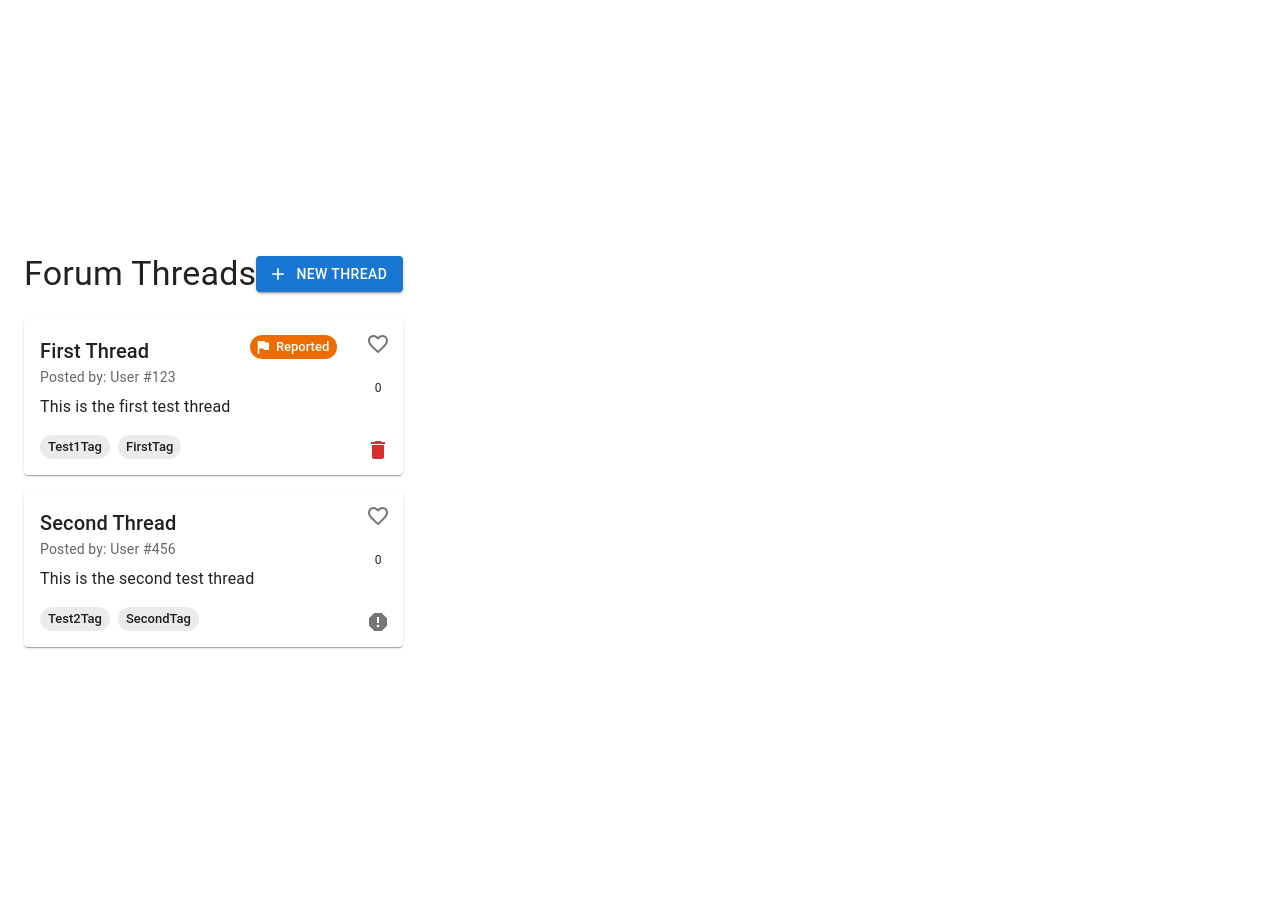
Test case: ThreadListPage › adds a custom tag in the create thread dialog
The image size is (1280, 900).
# Open create thread dialog
Click the button "New Thread": (330, 274) x1=256 y1=256 x2=403 y2=292
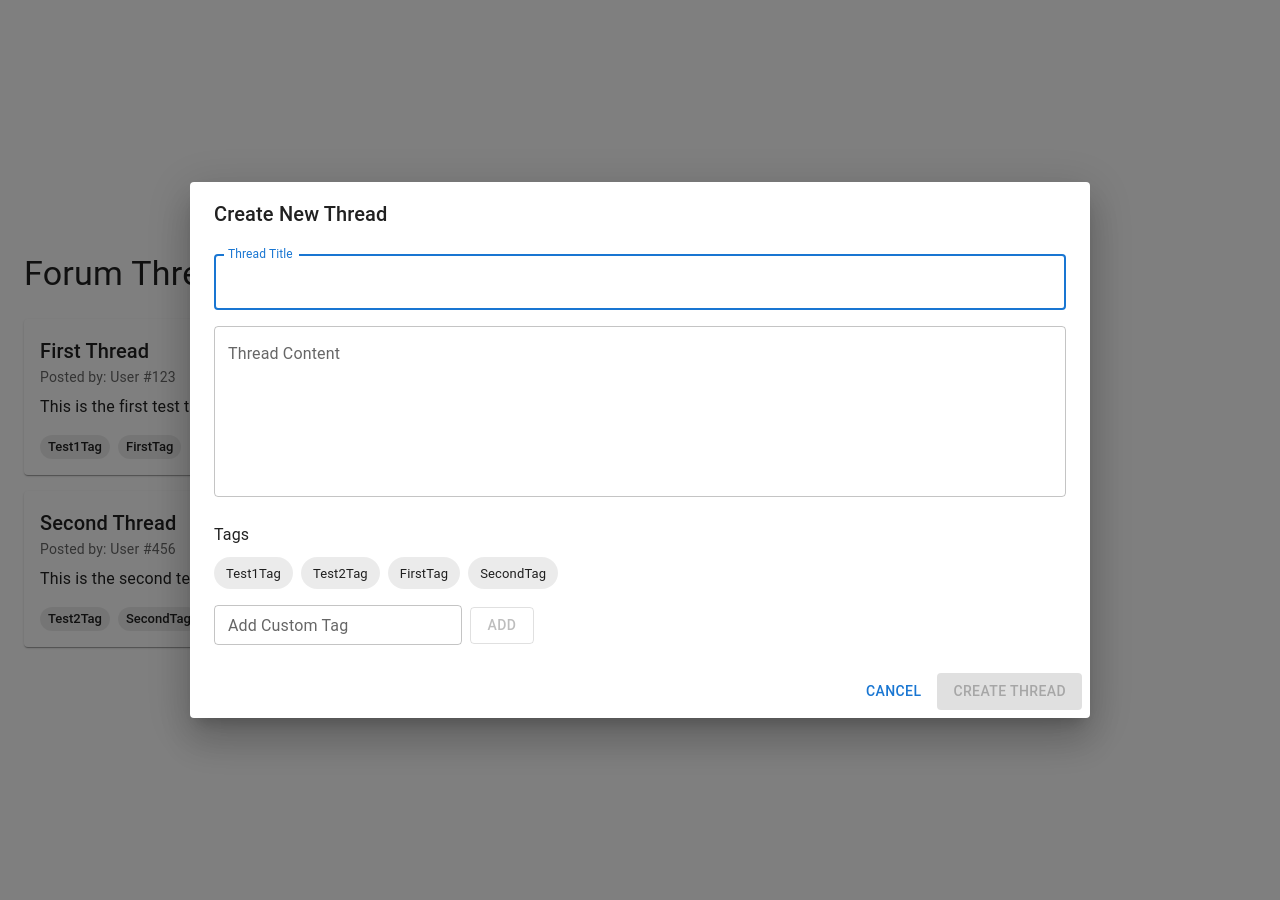
# Enter a custom tag
In the field labelled "Add Custom Tag": (338, 625) x1=214 y1=605 x2=462 y2=645, type "CustomTag"
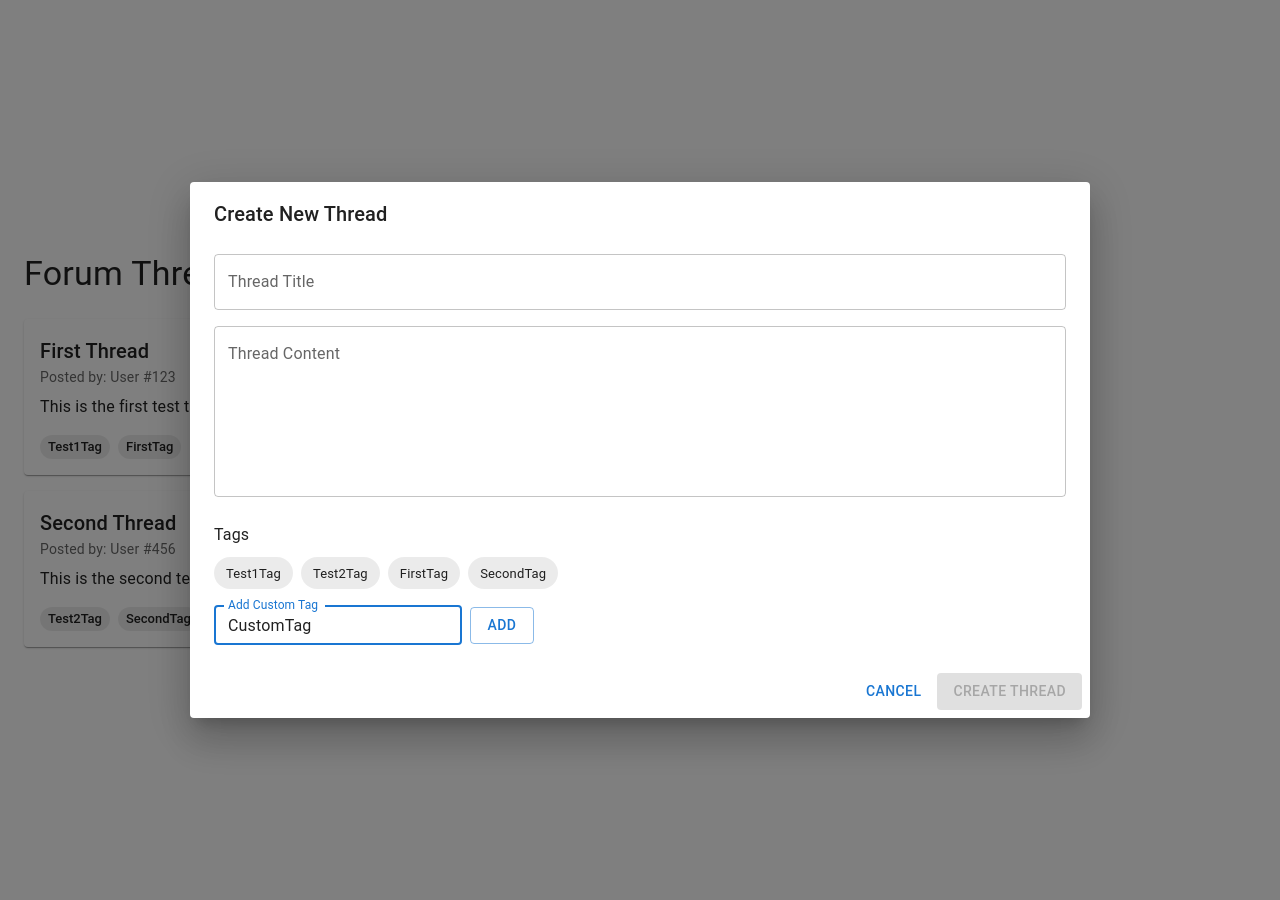
Click the button "Add": (502, 625) x1=470 y1=607 x2=534 y2=644
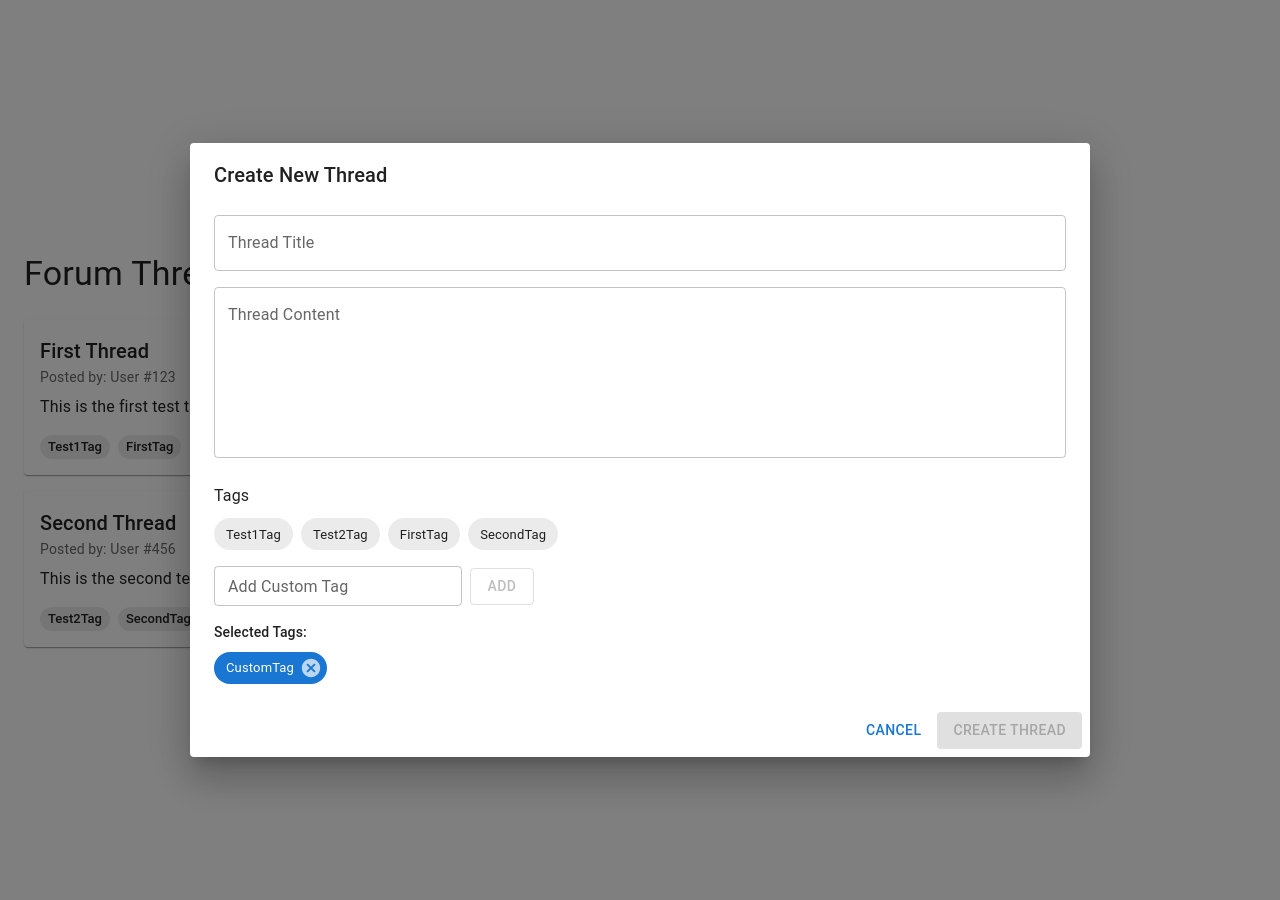
Expected: the text "CustomTag" is shown, x1=226 y1=660 x2=294 y2=676
